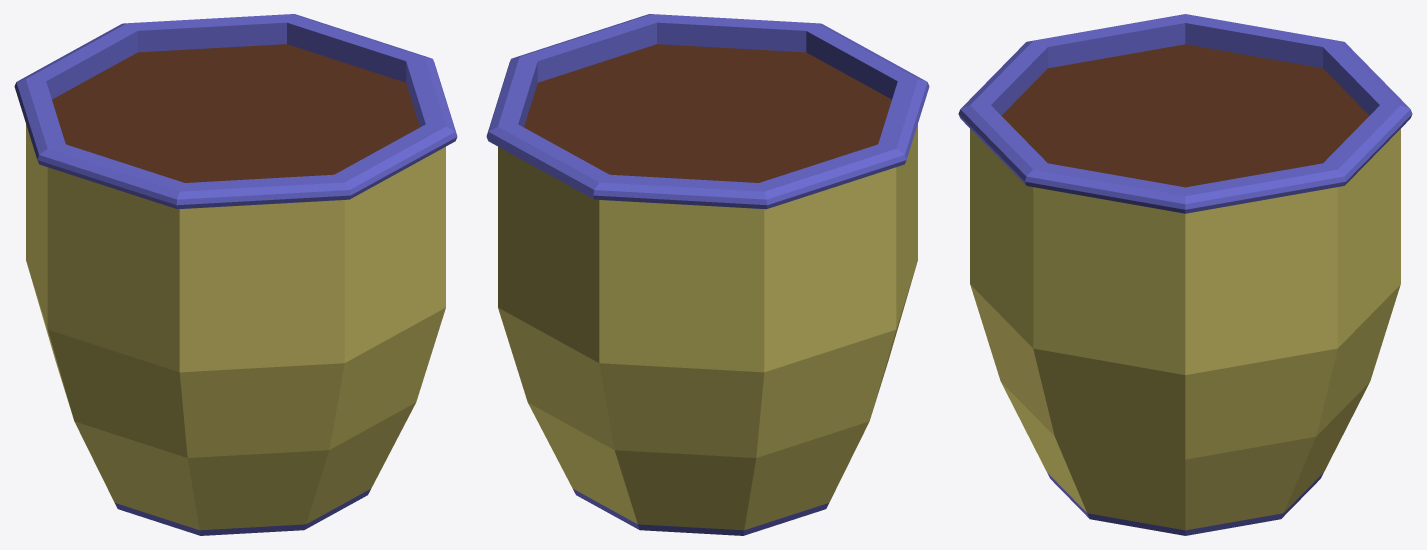
File: Pot1 1.fbx
3 renders of one model, left to right at view 1: azimuth 30°, elevation 25°; view 2: azimuth 150°, elevation 25°; view 3: azimuth 270°, elevation 25°, orthographic.
Parts seen in each view (by area): view 1: Cylinder; view 2: Cylinder; view 3: Cylinder.
Part boxes in pixels (x1,y1,x2,y2): Cylinder: (14, 14, 457, 535); Cylinder: (486, 14, 929, 535); Cylinder: (958, 14, 1412, 535).
Size of the model in its own units: 336 by 305 by 336.
